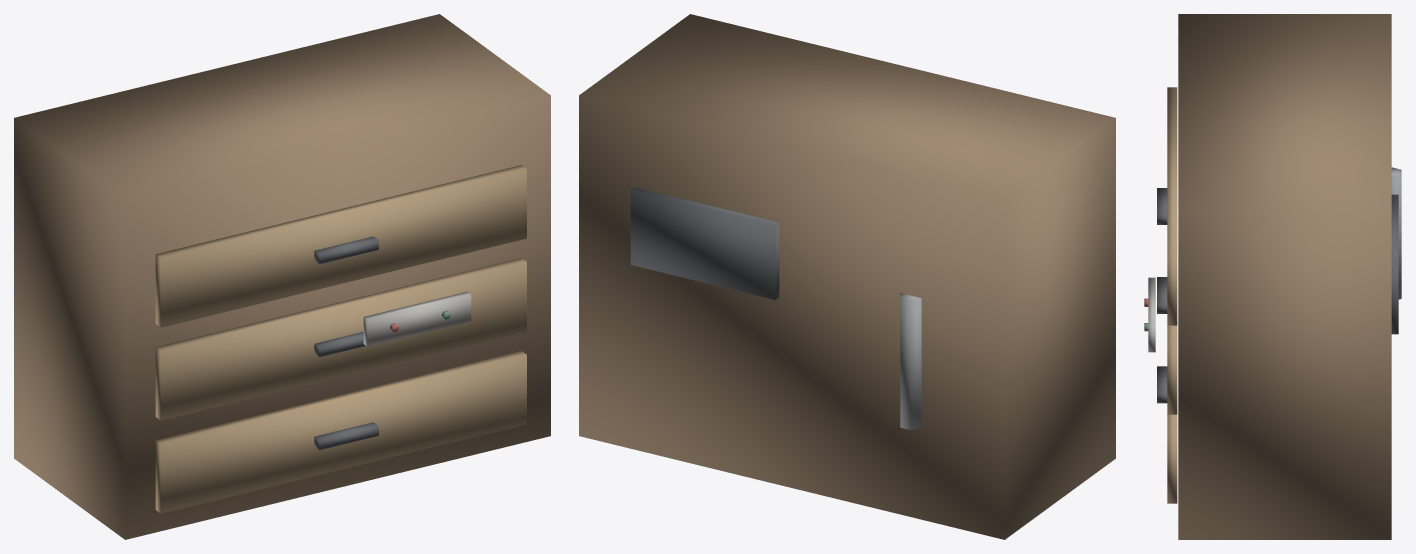
File: dresser__service.glb
The picture shows the model from 3 angles, left to right: view 1: azimuth 30°, elevation 25°; view 2: azimuth 150°, elevation 25°; view 3: azimuth 270°, elevation 25°; orthographic projection. The views are drawn at different scales.
Visible parts, largest first — view 1: world; view 2: world; view 3: world.
Part boxes in pixels (left/top/right/bottom): world: left=14, top=14, right=550, bottom=539; world: left=579, top=14, right=1115, bottom=539; world: left=1144, top=14, right=1401, bottom=539.
Bounding box in the file's own units: 1.15 × 0.88 × 0.6284.
